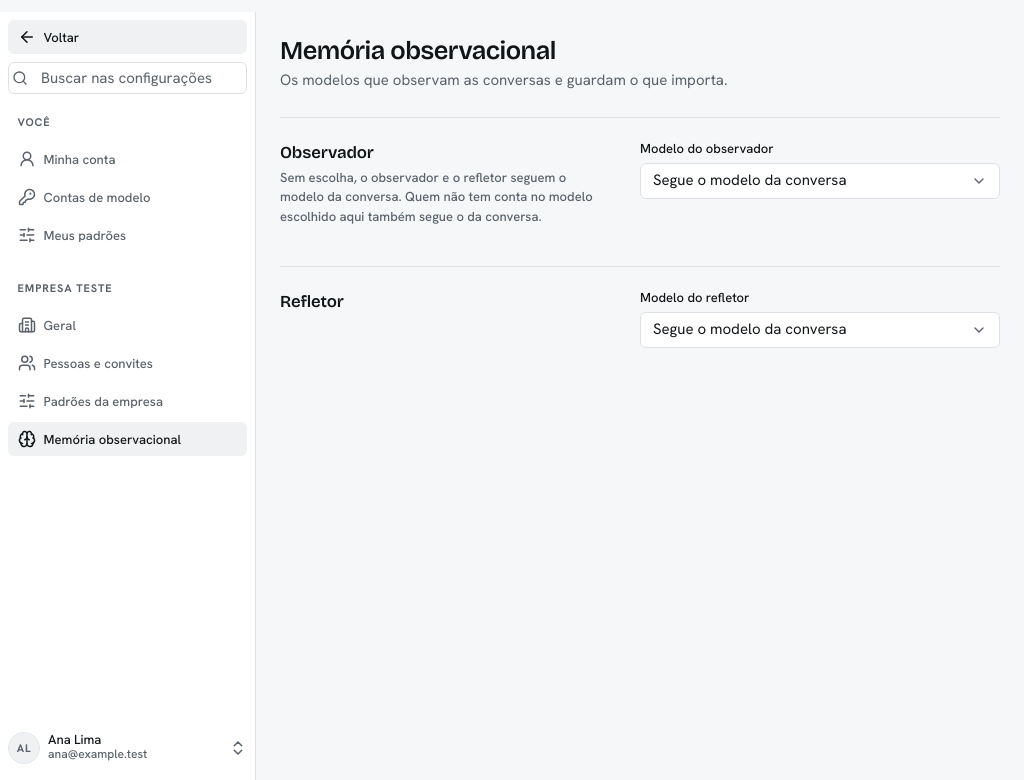
Test case: o modelo escolhido fica à vista no campo e uma resposta cortada diz que não confirmou
Click the dropdown named "Modelo do observador": (820, 181) [640, 163, 1000, 199]
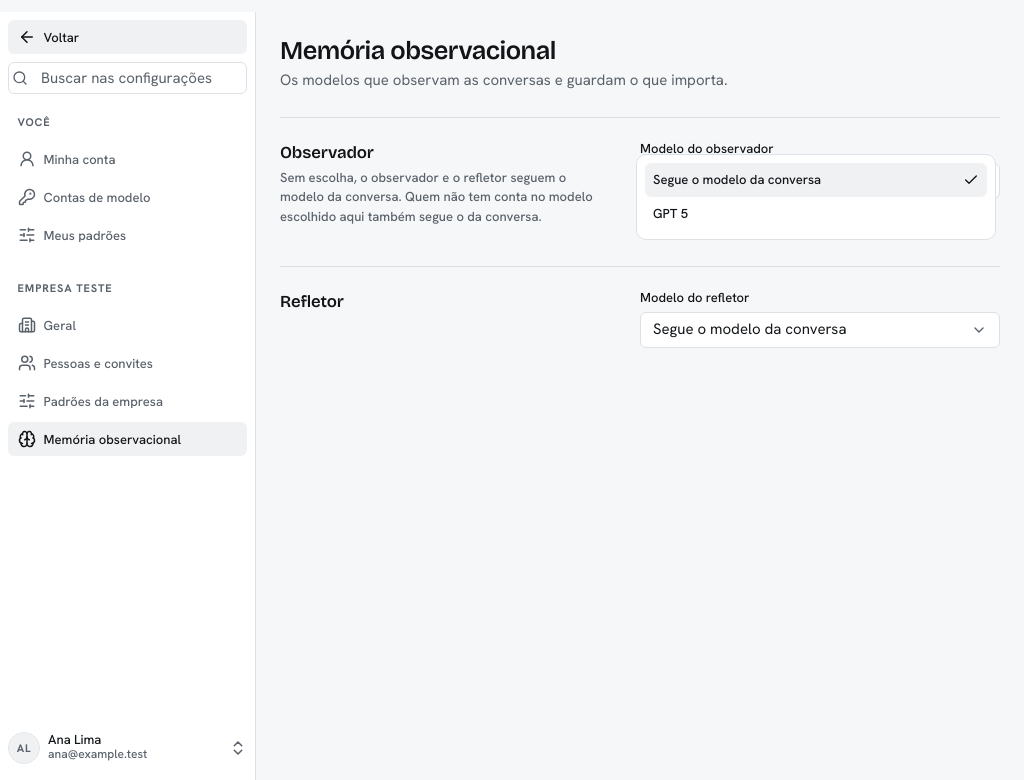
Press the mouse on the option "GPT 5": (670, 214) [653, 205, 688, 222]
Click the option "GPT 5": (670, 214) [653, 205, 688, 222]
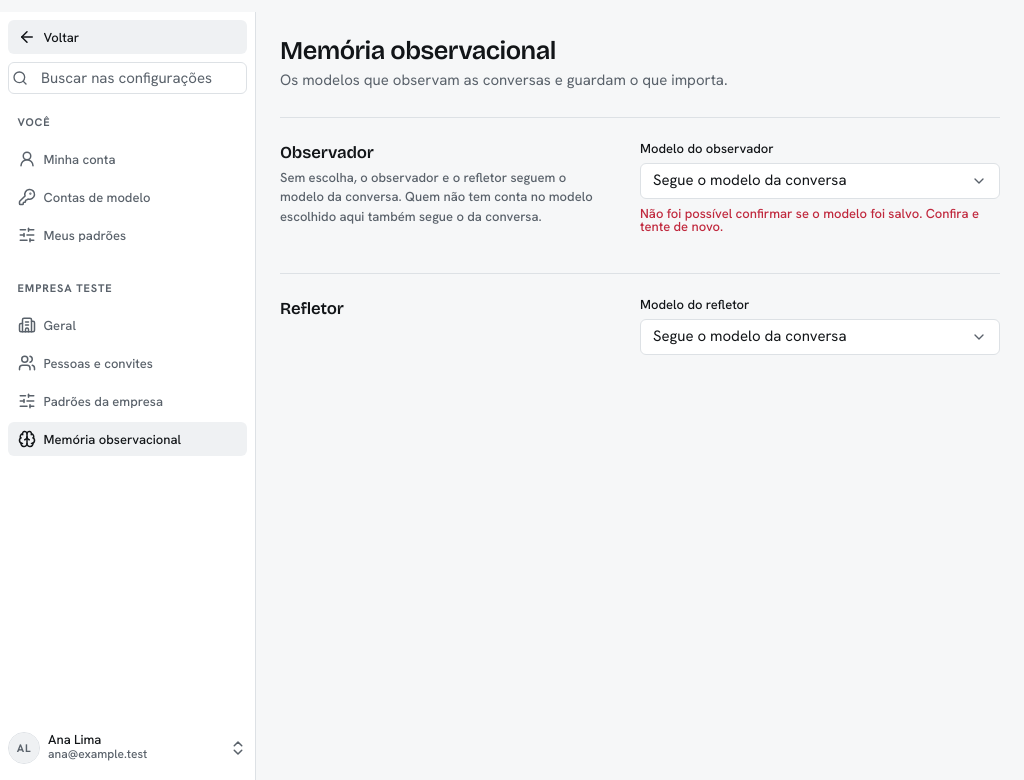
Now the text "Não foi possível confirmar se o modelo foi salvo. Confira e tente de novo." is shown, box [640, 207, 1000, 233]
